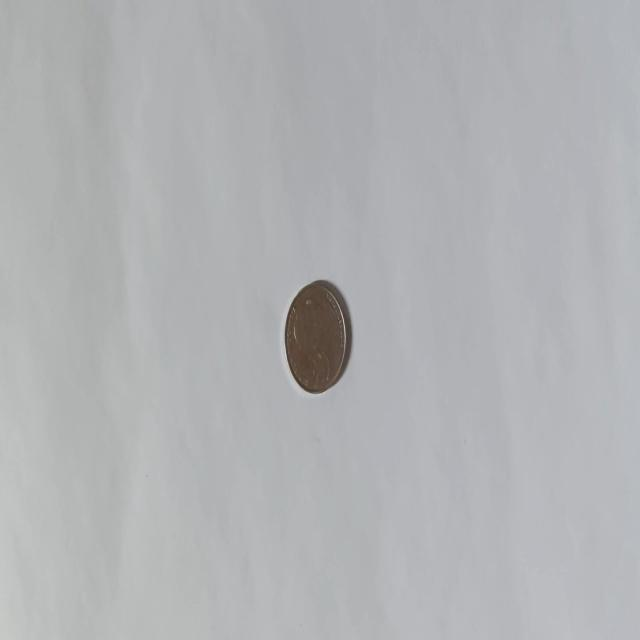seribu rupiah koin: (282, 278, 348, 395)
